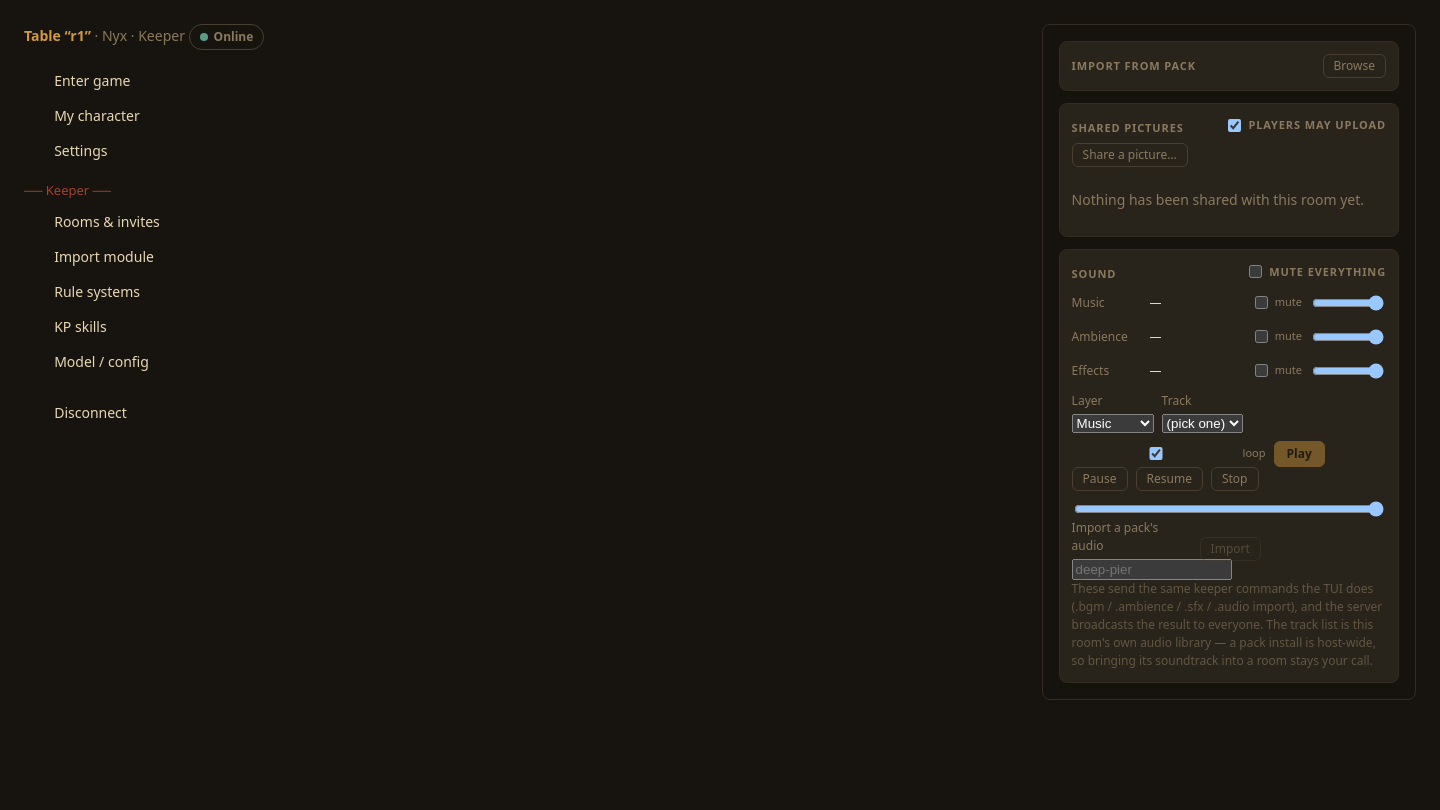
PlayView › lands on the main menu while online; Enter game opens the chronicle
Expected: the text "Table “r1” · Nyx · Keeper Online" is shown, [24,24,264,50]
Step 1. Click the menu item "Enter game" → point(92, 80), box [24,64,544,97]
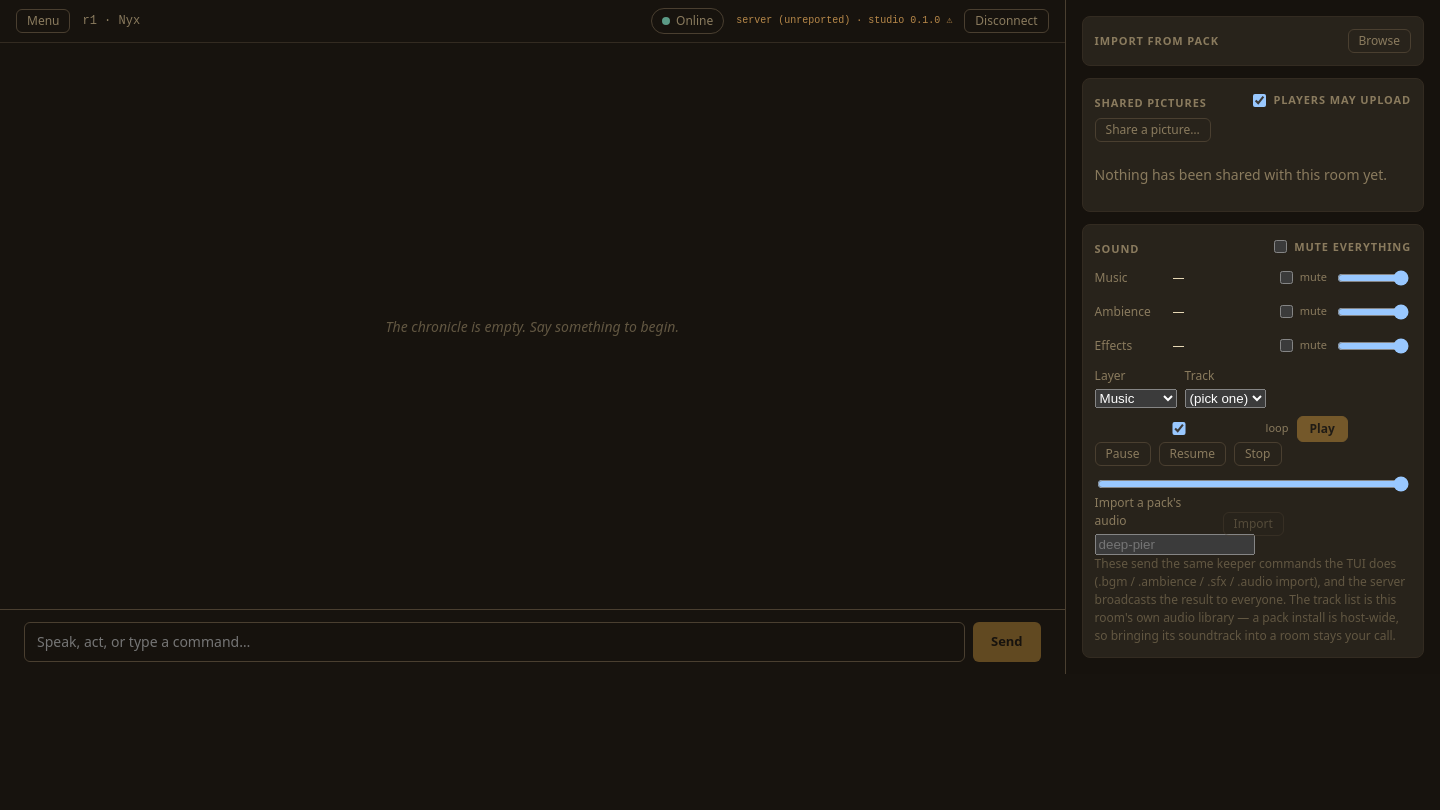
Expected: the button "Disconnect" is shown, [964,9,1049,33]
Expected: the text "r1 · Nyx" is shown, [82,14,140,28]
Expected: the field labelled "Speak, act, or type a command…" is shown, [24,622,965,662]
Esc backs out to the menu.
Step 2. Press Escape
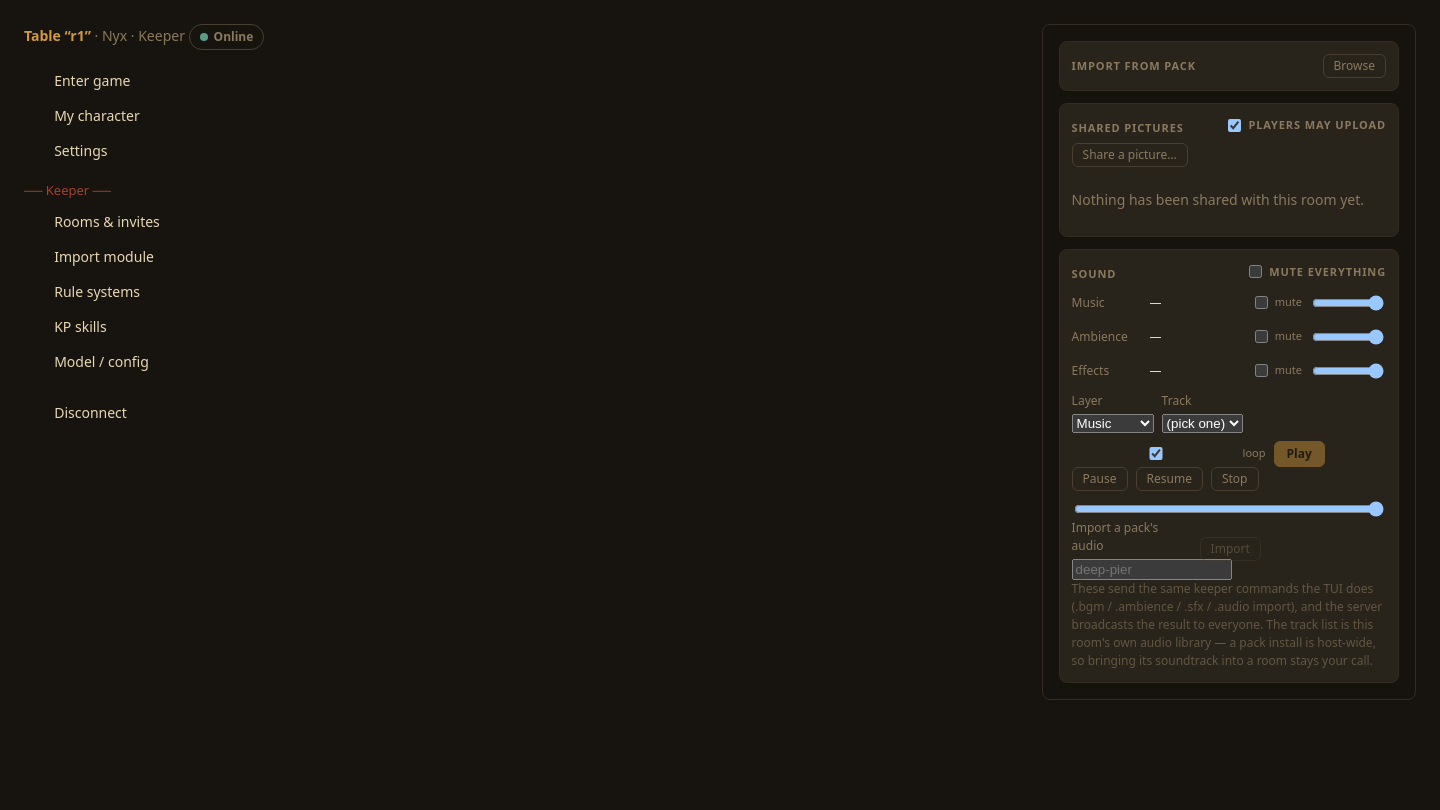
Expected: the text "Table “r1” · Nyx · Keeper Online" is shown, [24,24,264,50]
